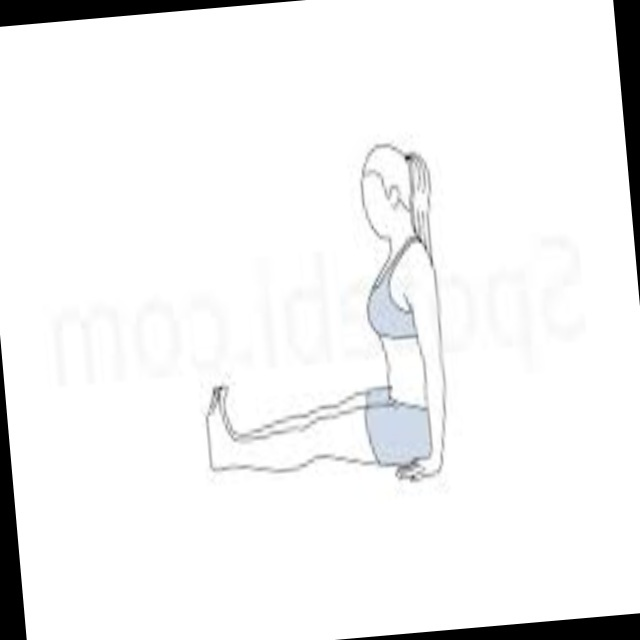Staff_Pose: (204, 145, 449, 484)
